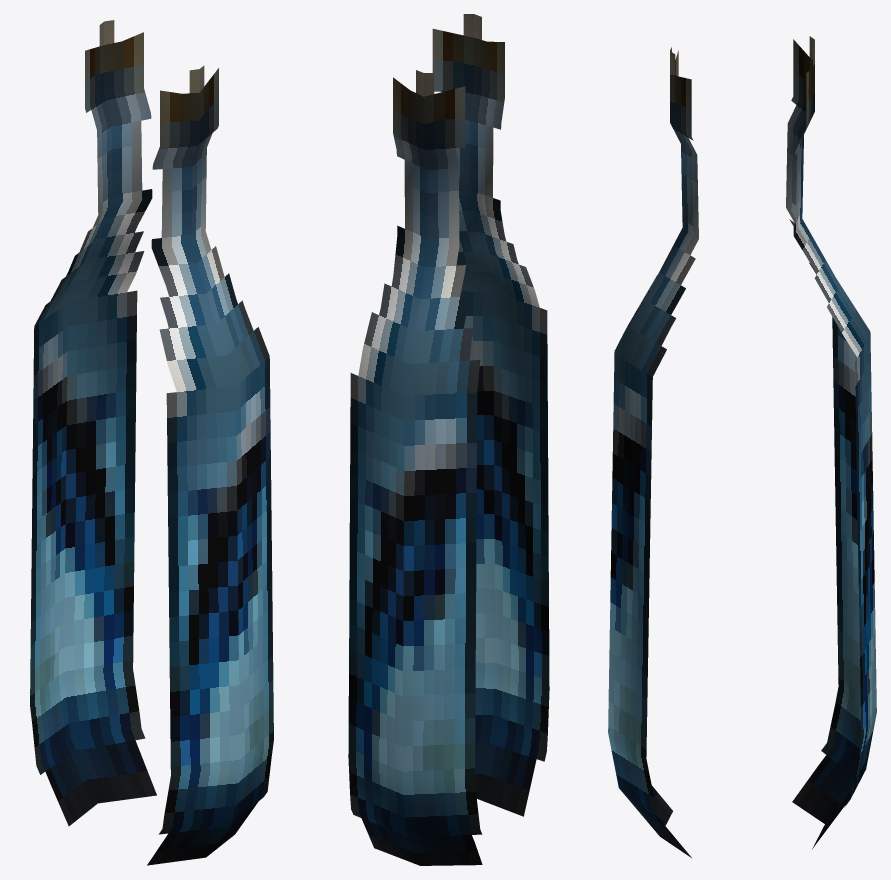
Rendered from HastyHerring.fbx.
3 views of the same model, side by side, from view 1: azimuth 30°, elevation 25°; view 2: azimuth 150°, elevation 25°; view 3: azimuth 270°, elevation 25° (orthographic).
Parts seen in each view (by area): view 1: Item_HastyHerring; view 2: Item_HastyHerring; view 3: Item_HastyHerring.
Boxes of the visible parts, x1,y1,x2,y2 form: Item_HastyHerring: (30, 20, 273, 865); Item_HastyHerring: (348, 14, 549, 865); Item_HastyHerring: (608, 36, 876, 857).
Size of the model in its own units: 0.1772 by 0.5611 by 0.1741.
1 material, 1 textured.
